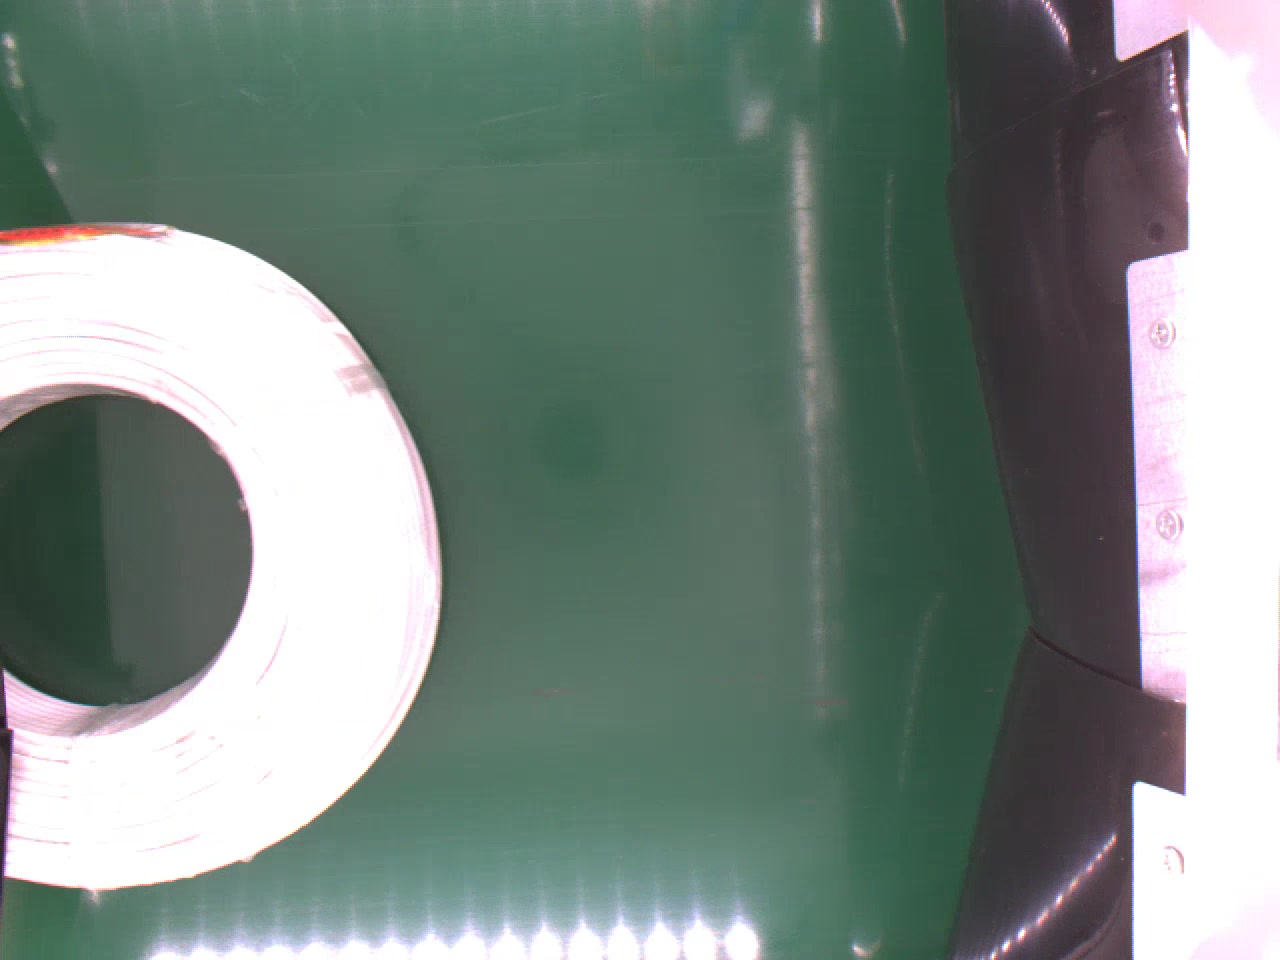white: (0, 219, 446, 899)
